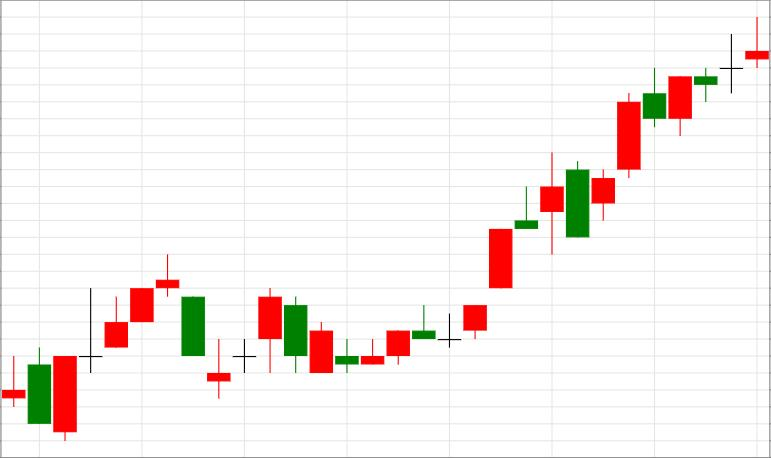shooting_star_fall: (464, 68, 666, 340)
